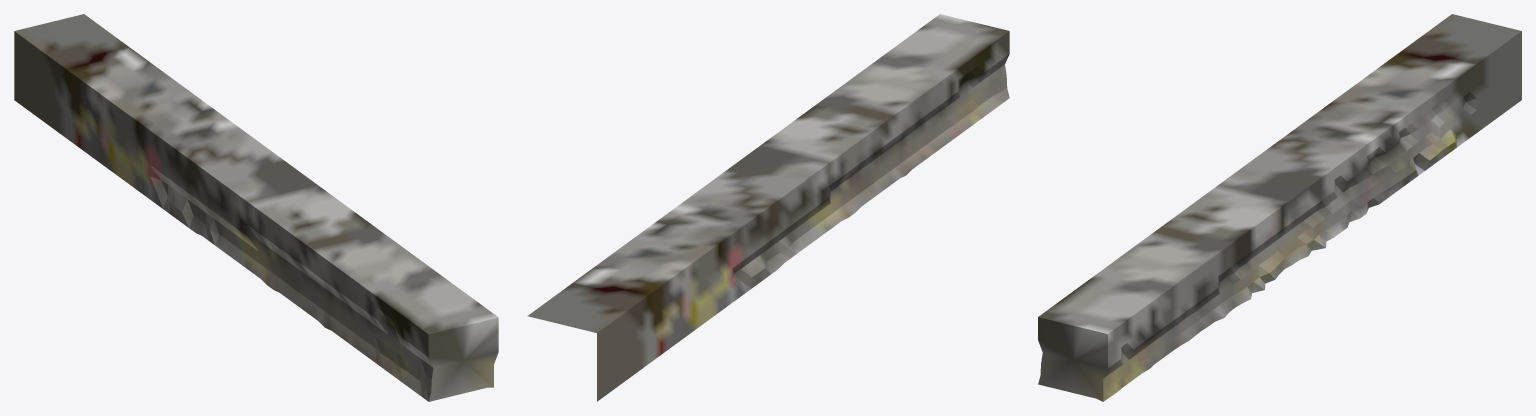
3 views of the same model, side by side, from view 1: azimuth 30°, elevation 25°; view 2: azimuth 150°, elevation 25°; view 3: azimuth 330°, elevation 25° (orthographic).
Parts seen in each view (by area): view 1: geometry_0; view 2: geometry_0; view 3: geometry_0.
Part boxes in pixels (x1,y1,x2,y2): geometry_0: [14, 14, 498, 401]; geometry_0: [527, 14, 1009, 401]; geometry_0: [1038, 14, 1521, 401].
Size of the model in its own units: 2.4 by 2.15 by 22.83.
